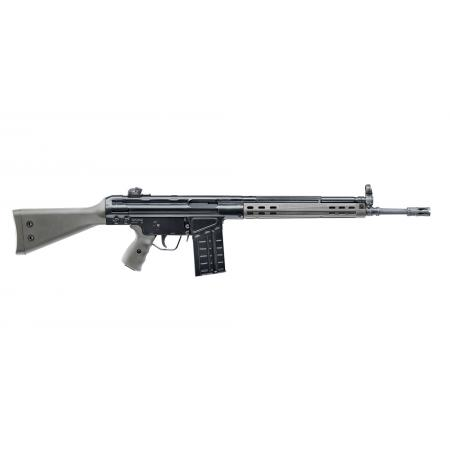Arma Real: (12, 182, 435, 276)
